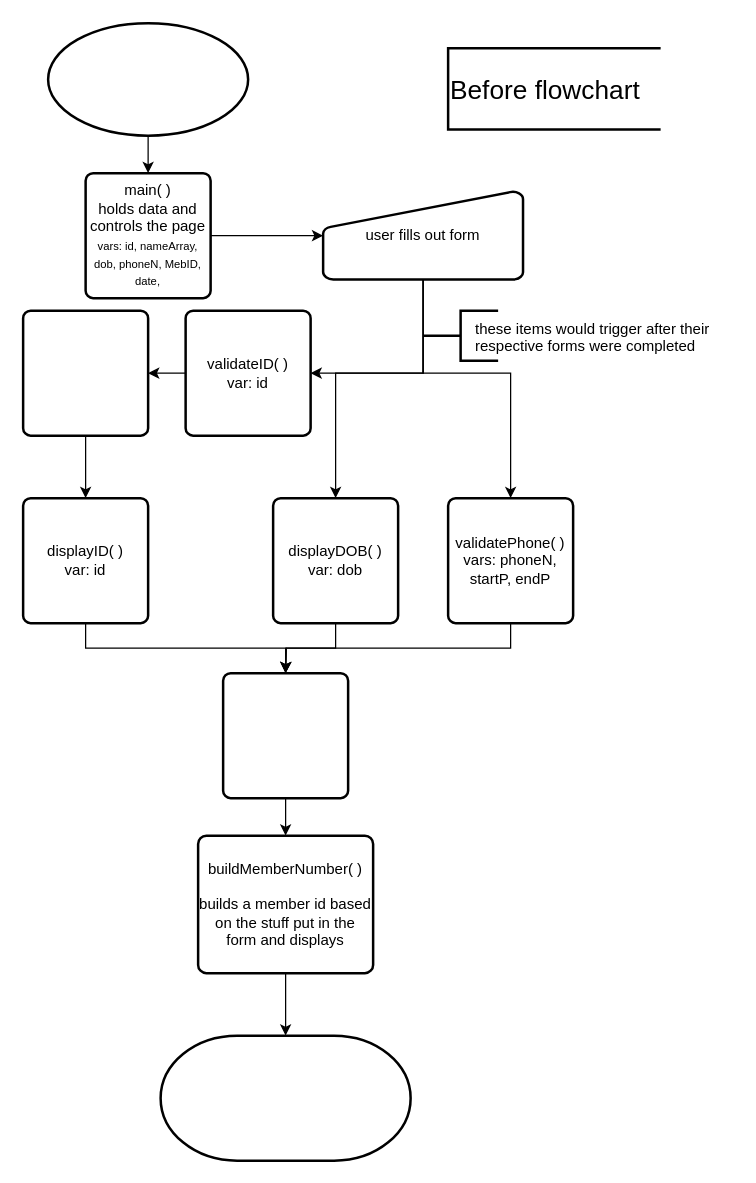
Image size: 756x1183. Some labels were removed from this diagram. The box of each missing label's shape, as (x1, y1, x2, y2) in pixels:
clearMsg( ) var: formCheck: (221, 671, 349, 799)
end: (159, 1034, 411, 1161)
reformatID( ) vars: id, startP, endP: (21, 309, 149, 436)
start: (46, 21, 249, 136)
